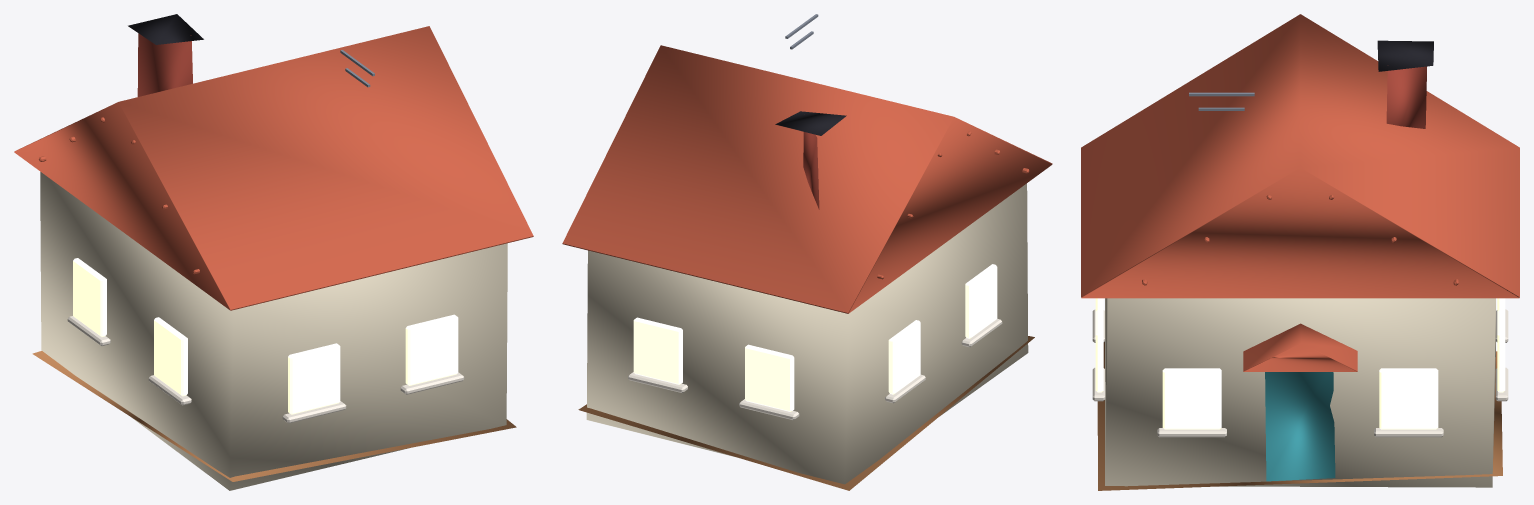
File: house.glb
3 renders of one model, left to right at view 1: azimuth 30°, elevation 25°; view 2: azimuth 150°, elevation 25°; view 3: azimuth 270°, elevation 25°, orthographic. The views are drawn at different scales.
Parts seen in each view (by area): view 1: house; view 2: house; view 3: house.
Boxes of the visible parts, bbox=[...] form: house: bbox=[14, 14, 533, 490]; house: bbox=[562, 14, 1052, 490]; house: bbox=[1081, 14, 1519, 490].
Bounding box in the file's own units: 6.01 × 5.91 × 6.69.
1 material, 1 textured.
